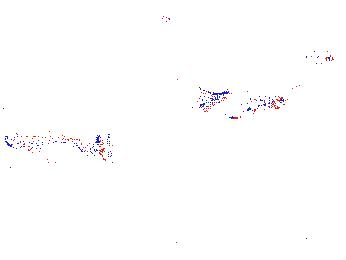X-ray fish: (88, 131, 123, 169), (126, 5, 156, 44)
red belly glassfish: (304, 50, 336, 69), (148, 8, 173, 32)
redtail glassfish: (193, 86, 286, 120), (3, 129, 97, 160), (219, 75, 297, 103), (286, 78, 346, 100)
